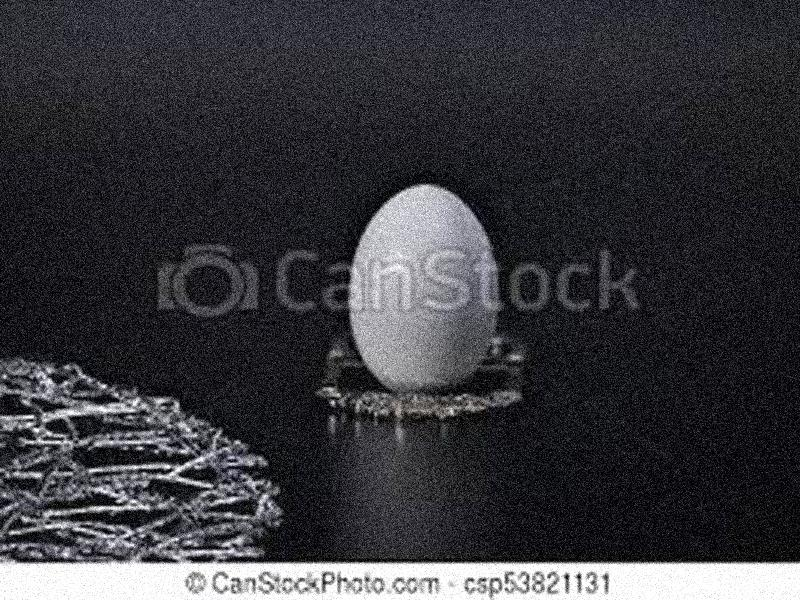Eggs: (347, 184, 499, 394)
